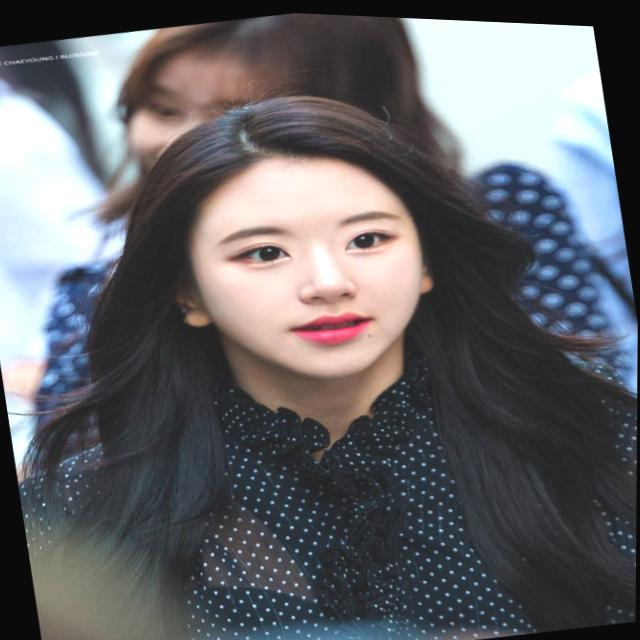face: (135, 84, 476, 411)
